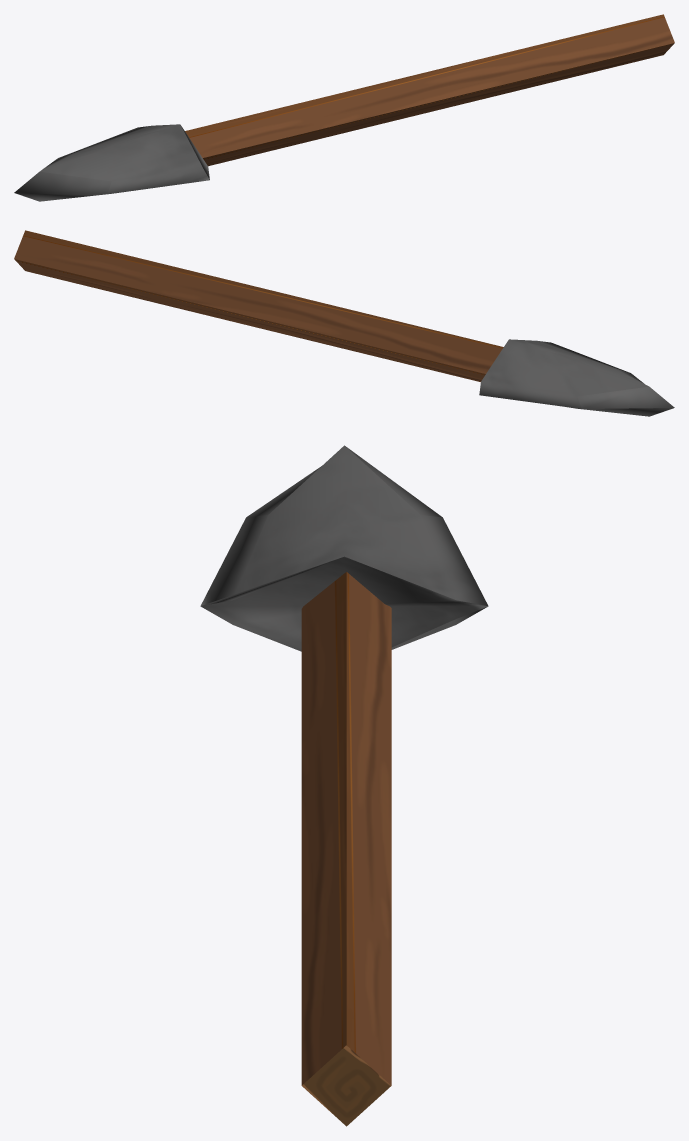
Rendered from Arrow.FBX.
The picture shows the model from 3 angles, top to bottom: view 1: azimuth 30°, elevation 25°; view 2: azimuth 150°, elevation 25°; view 3: azimuth 270°, elevation 25°; orthographic projection. The views are drawn at different scales.
Visible parts, largest first — view 1: Box579; view 2: Box579; view 3: Box579.
Part boxes in pixels (x1,y1,x2,y2): Box579: (14, 14, 674, 201); Box579: (14, 230, 674, 416); Box579: (200, 445, 488, 1126).
Bounding box in the file's own units: 93.45 × 7.69 × 17.97.
